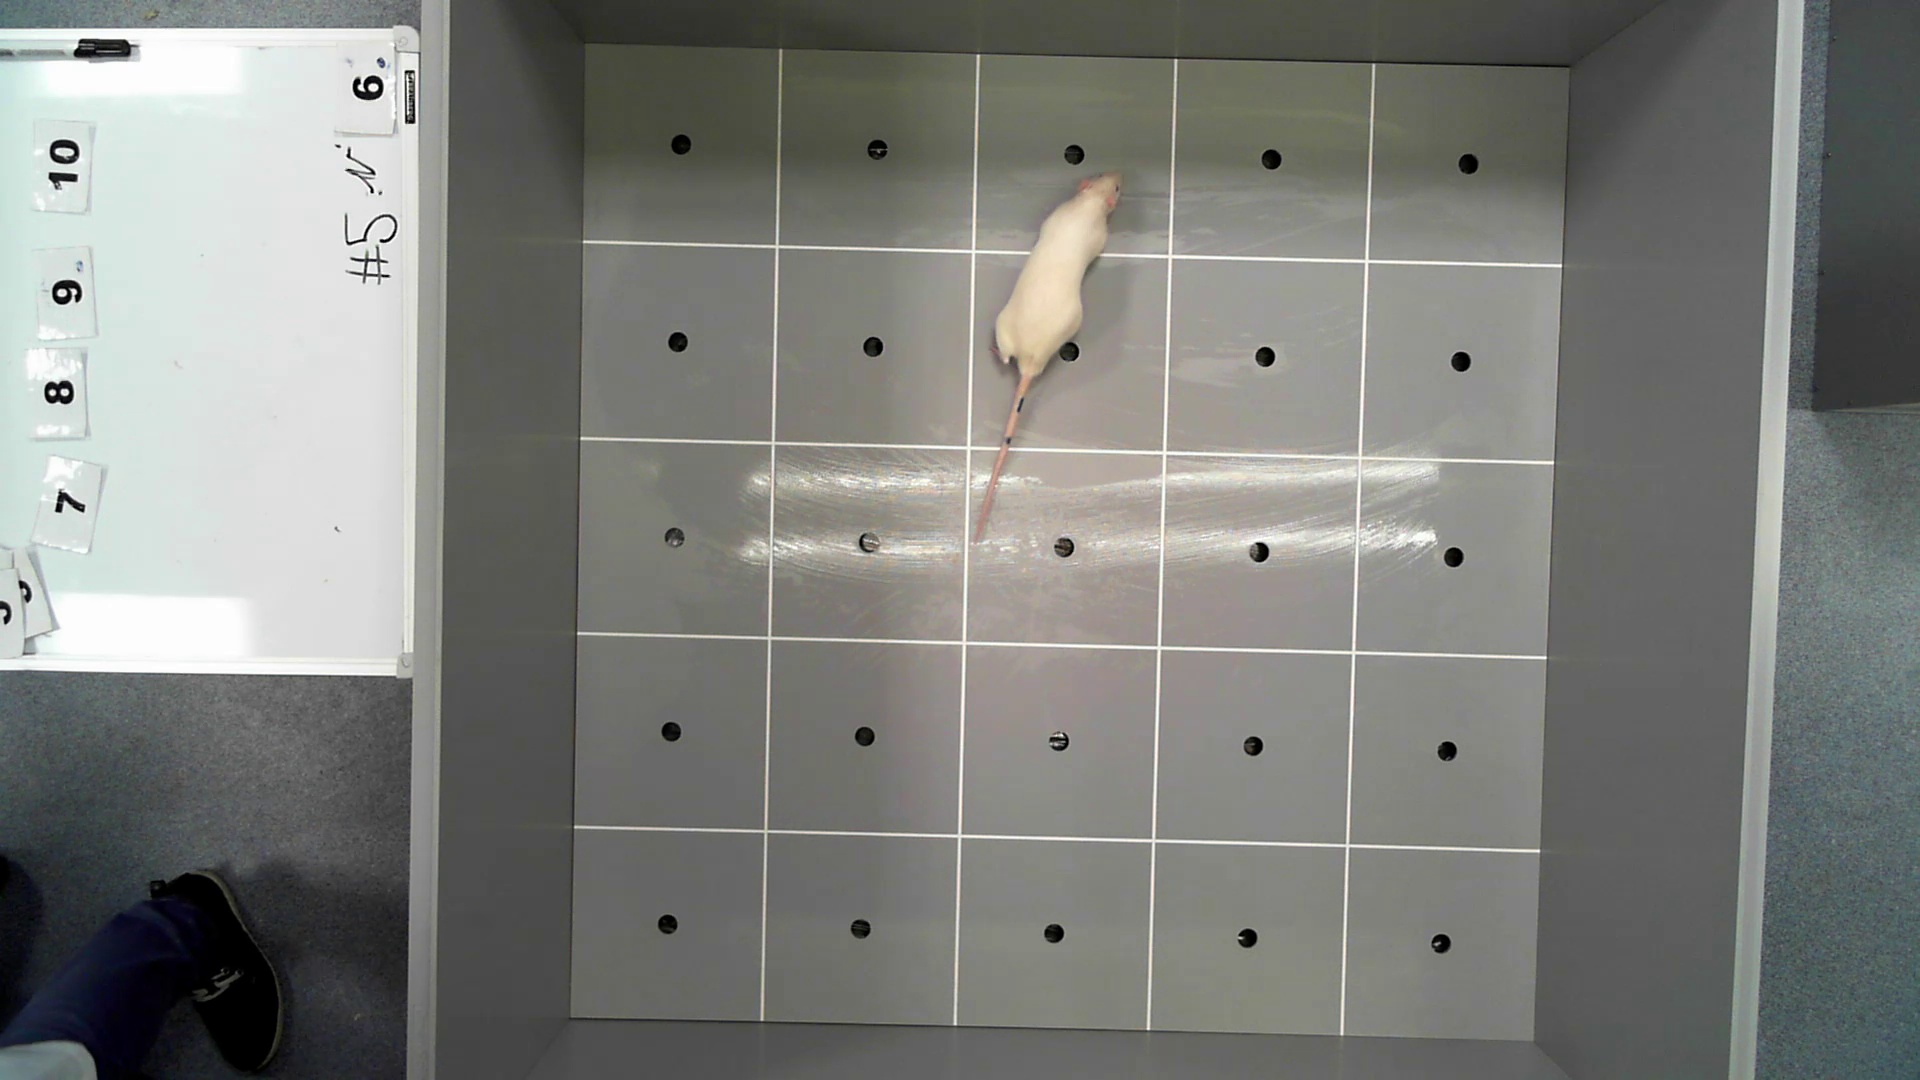rat: (920, 169, 1129, 554)
